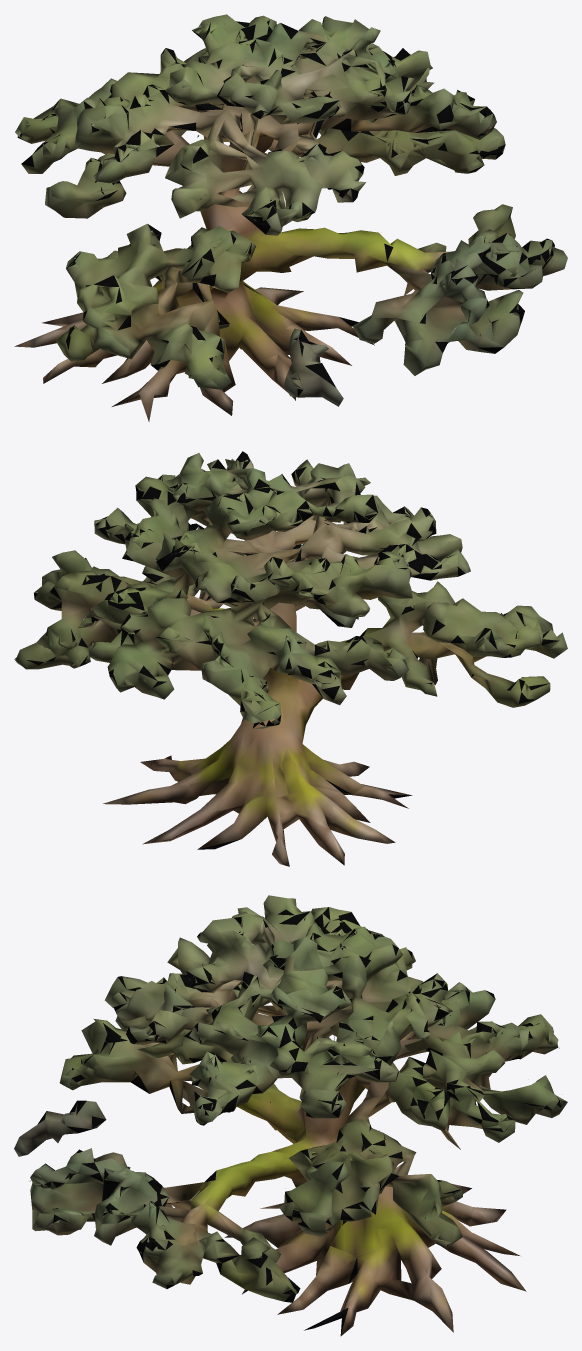
The model's file is tree_bent.glb.
The picture shows the model from 3 angles, top to bottom: view 1: azimuth 30°, elevation 25°; view 2: azimuth 150°, elevation 25°; view 3: azimuth 270°, elevation 25°; orthographic projection. The views are drawn at different scales.
Parts seen in each view (by area): view 1: MV_tree_bent; view 2: MV_tree_bent; view 3: MV_tree_bent.
Part boxes in pixels (left/top/right/bottom): MV_tree_bent: left=14, top=14, right=567, bottom=421; MV_tree_bent: left=14, top=451, right=567, bottom=866; MV_tree_bent: left=14, top=895, right=567, bottom=1336.
Size of the model in its own units: 8.43 by 5.6 by 8.03.
1 material, 1 textured.
